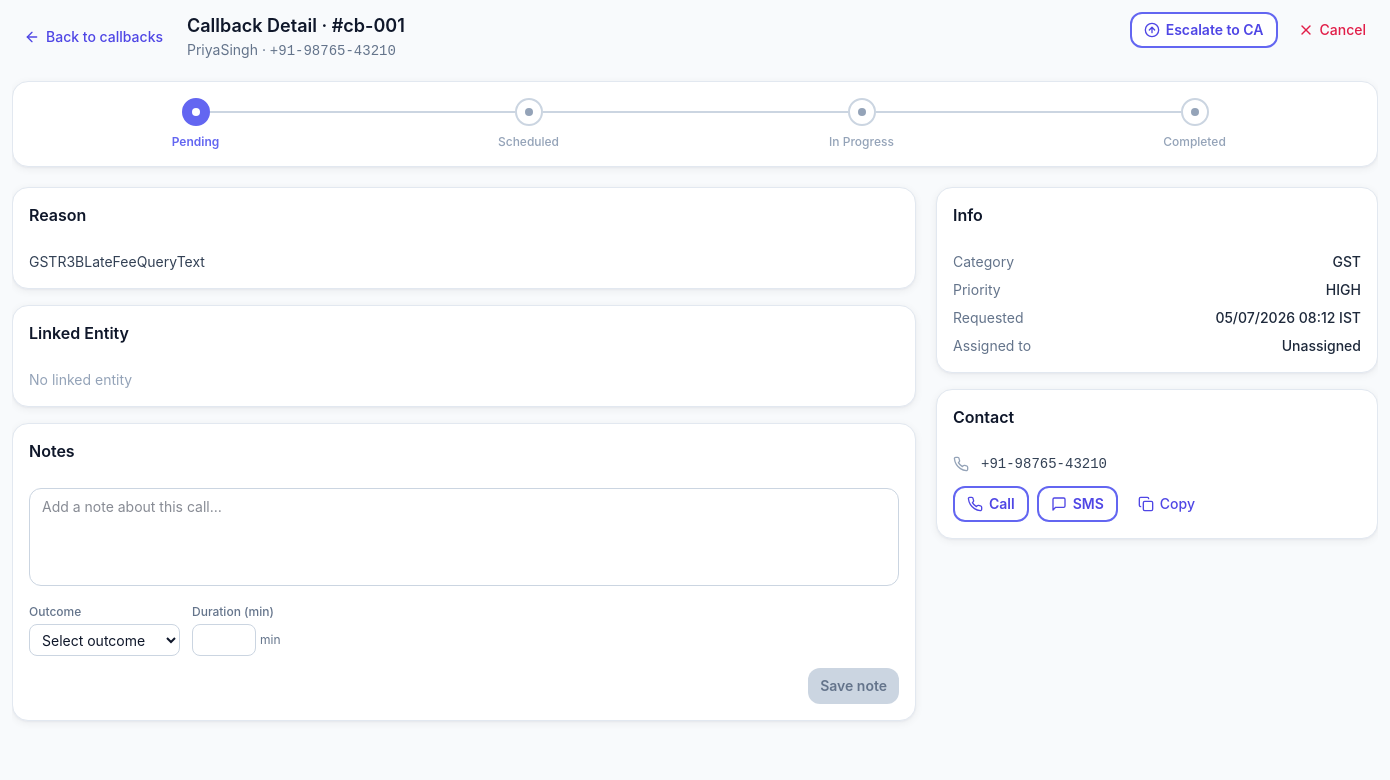
CallbackDetailPage › Save note button becomes enabled when note has 10+ characters
Type "Call placed ok user resolved the query now." into the text box named "notes". click: (464, 537)
box: [29, 488, 899, 586]
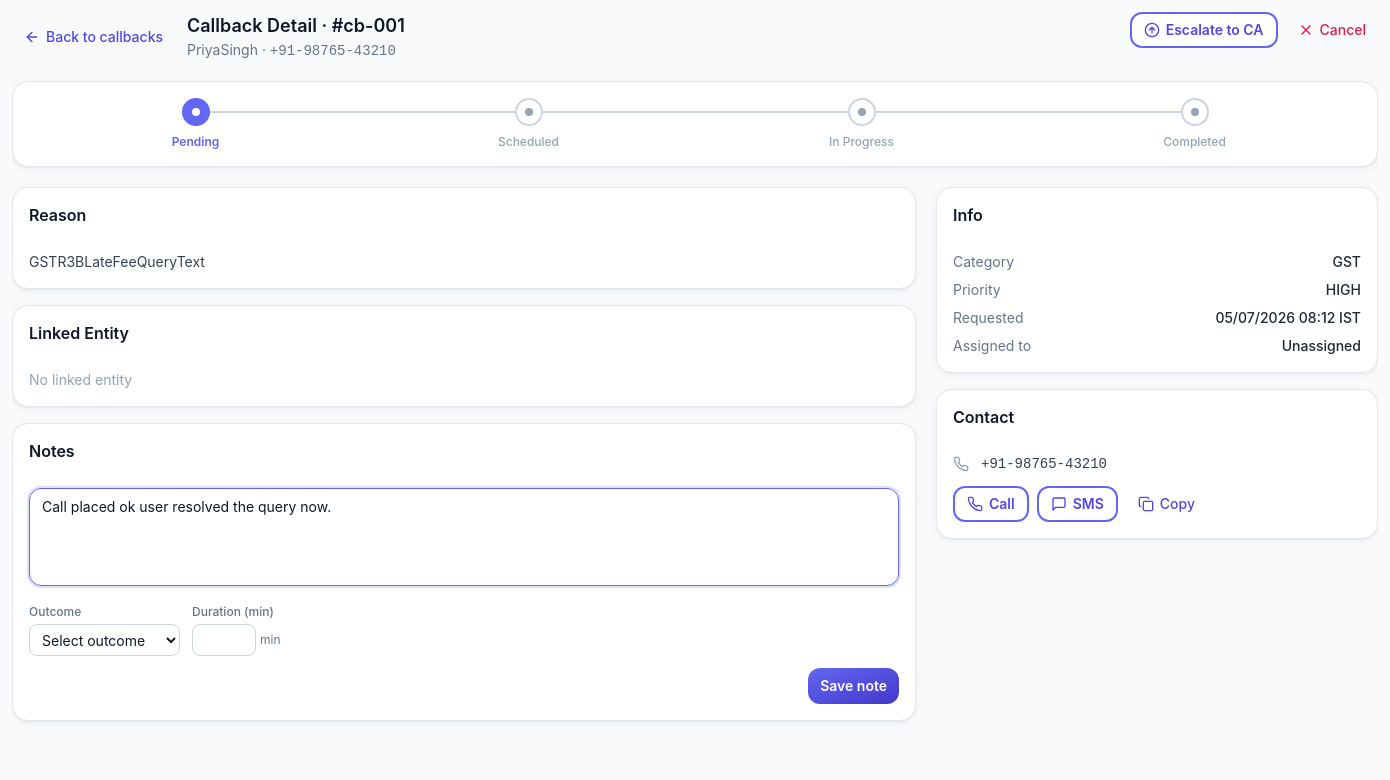
Result: the button "Save note" is enabled at [808, 668, 899, 704]
